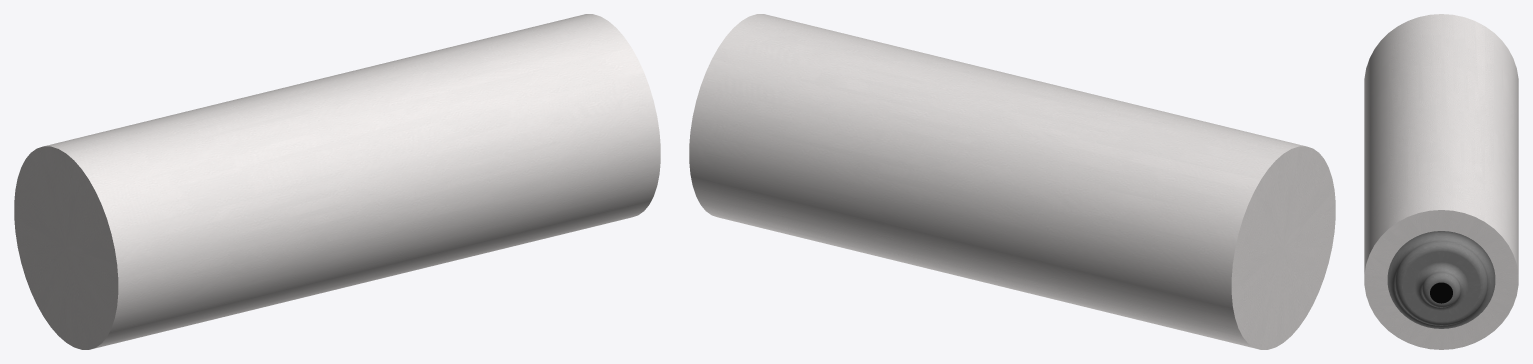
The model's file is break_beam.glb.
3 renders of one model, left to right at view 1: azimuth 30°, elevation 25°; view 2: azimuth 150°, elevation 25°; view 3: azimuth 270°, elevation 25°, orthographic. The views are drawn at different scales.
Parts seen in each view (by area): view 1: break_beam_design.SLDPRT; view 2: break_beam_design.SLDPRT; view 3: break_beam_design.SLDPRT.
Part boxes in pixels (x1=…): break_beam_design.SLDPRT: x1=14, y1=14, x2=660, y2=349; break_beam_design.SLDPRT: x1=689, y1=14, x2=1335, y2=349; break_beam_design.SLDPRT: x1=1364, y1=14, x2=1518, y2=349.
Size of the model in its own units: 0.032 by 0.01 by 0.00997.
Materials: 3 (3 with a texture image).
